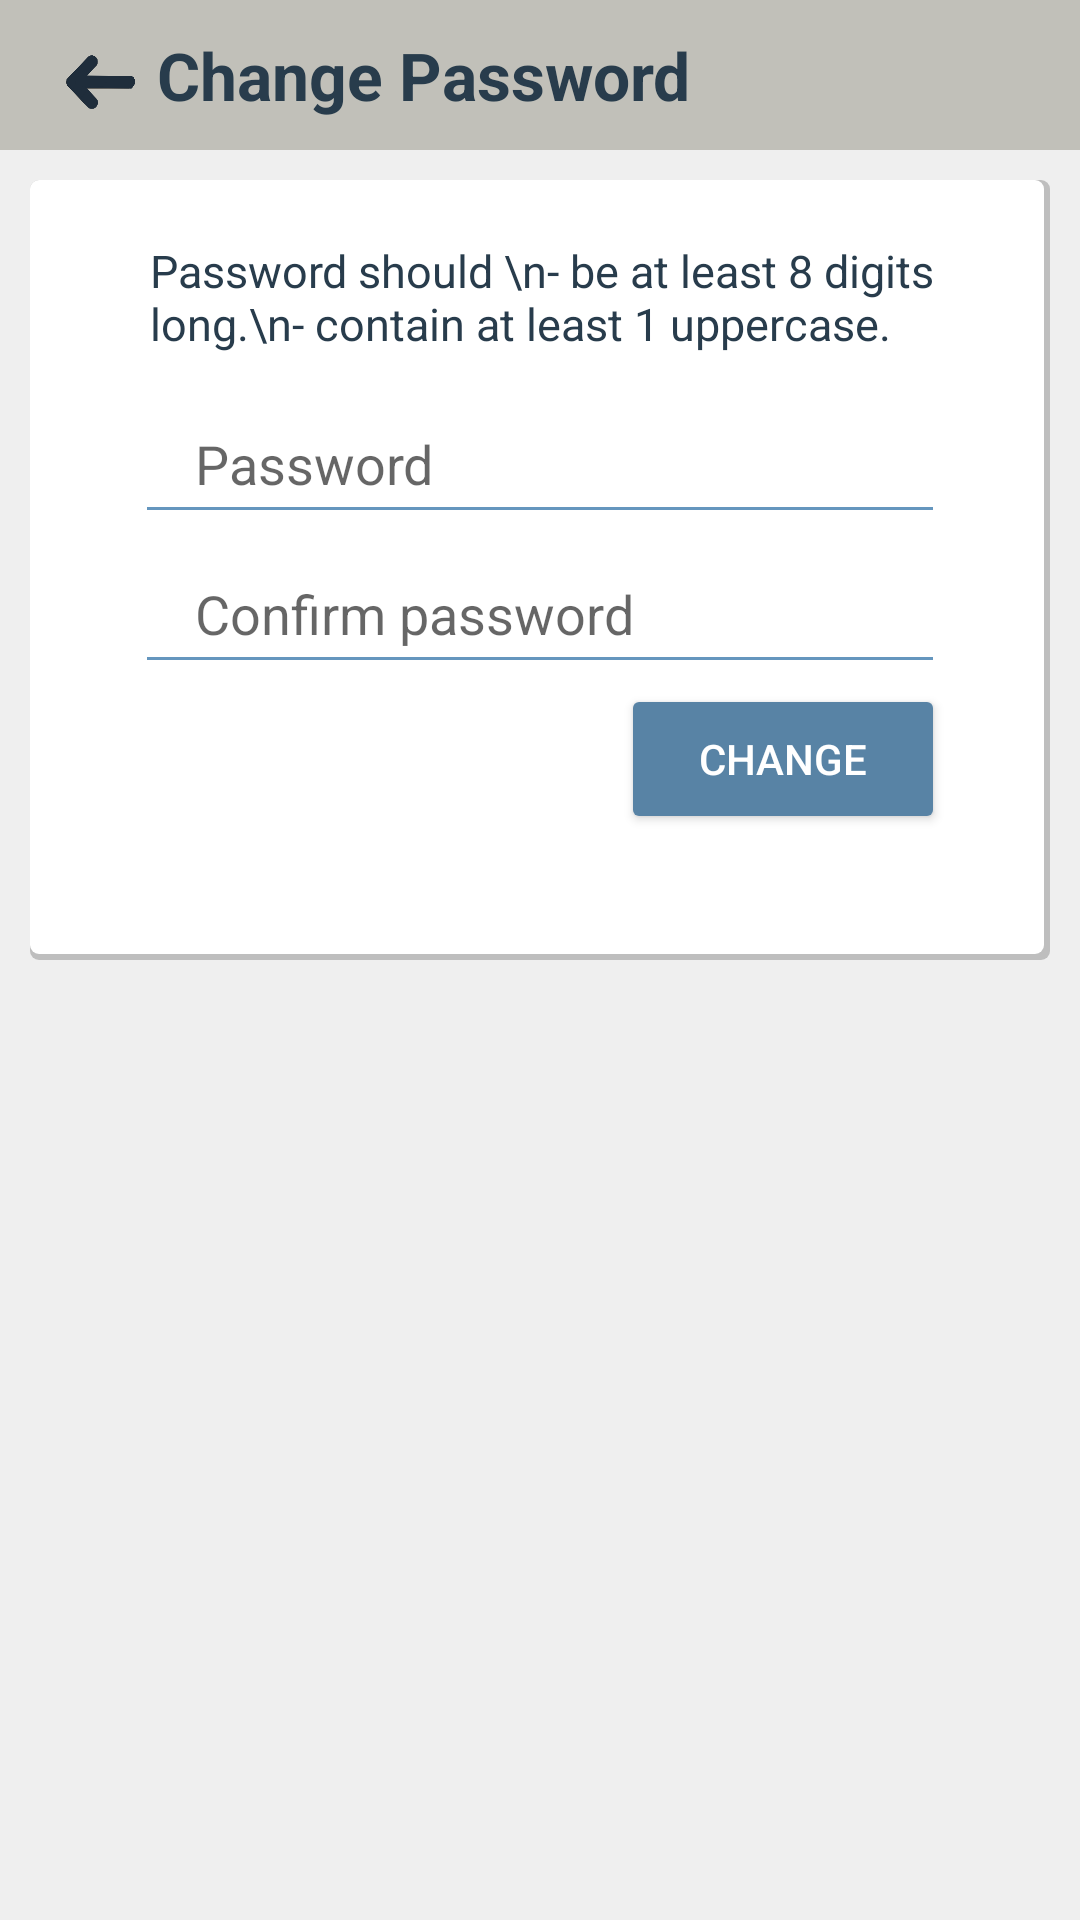

Locate icon controls on the screen. Image size 1080 × 1920, boxes as (left=x1, top=y1, right=x2, bottom=y2).
back: (left=66, top=55, right=135, bottom=109)
